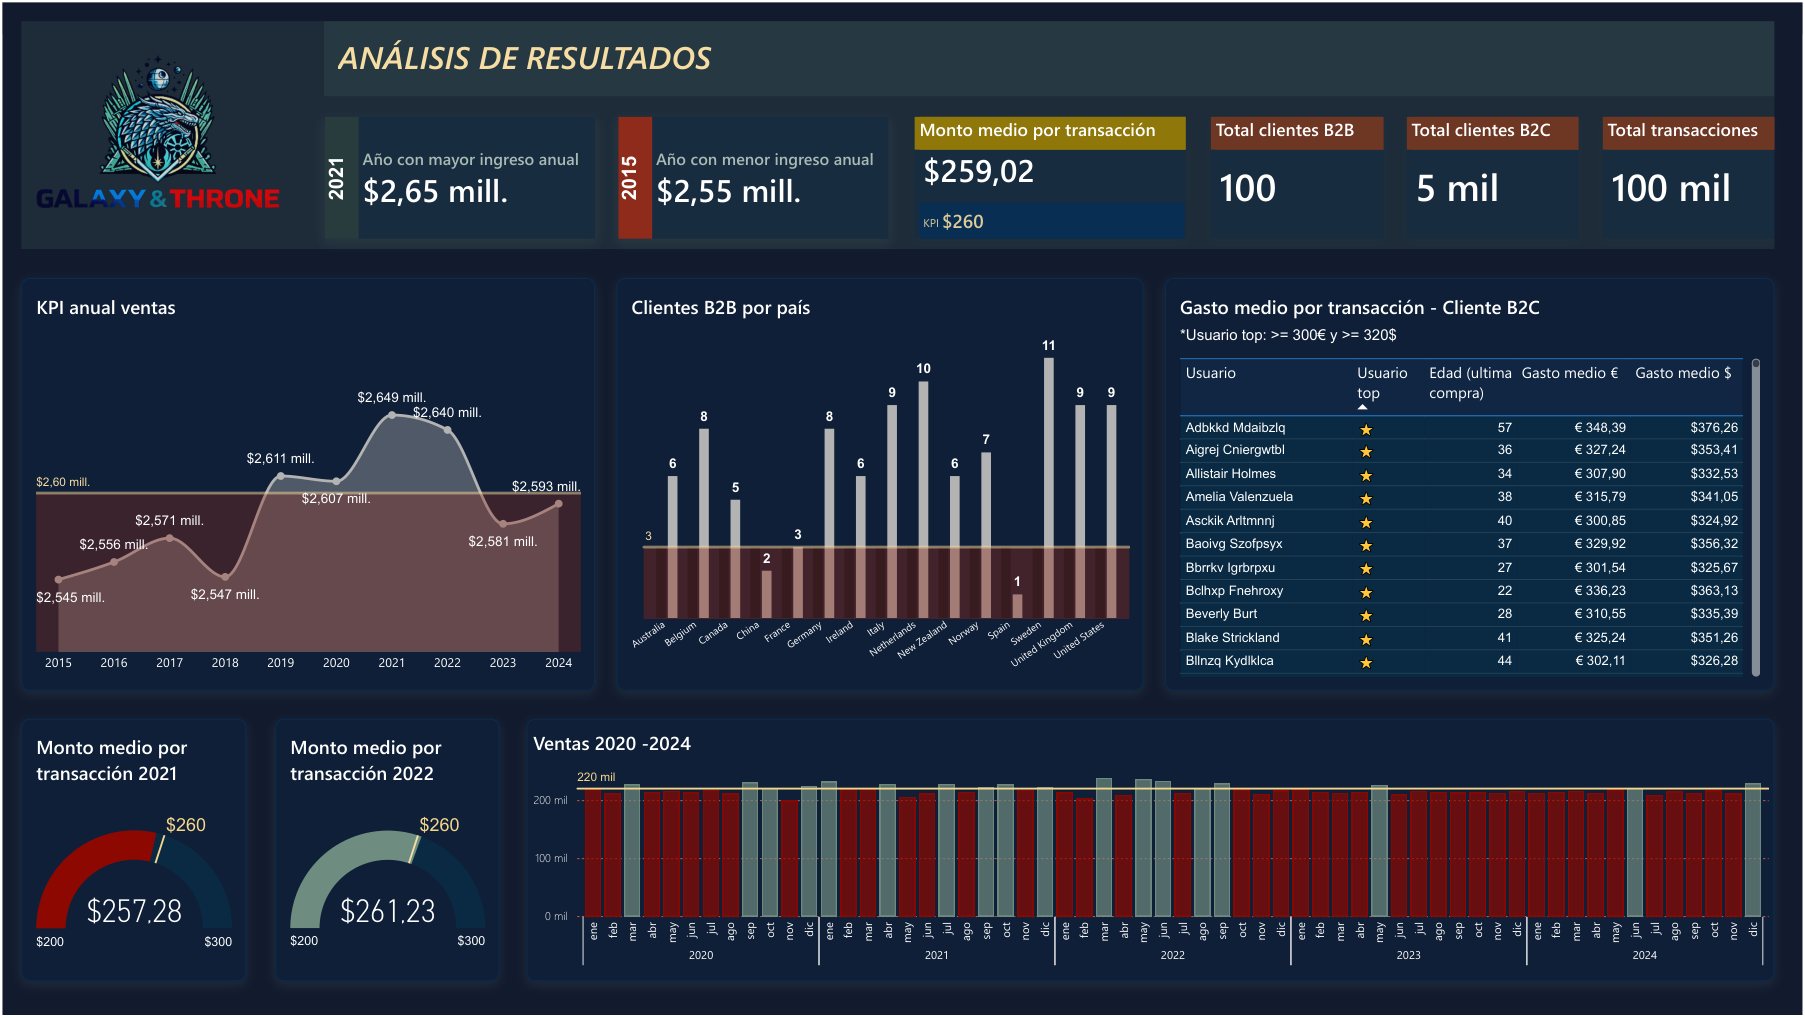

Layout of this report page (visuals, bound fields, positions):
{"tool":"powerbi","page":{"name":"KPIs","canvas":[1920,1080],"ordinal":0},"visuals":[{"type":"shape","box":[20,20,1870.2,243.3],"z":0},{"type":"gauge","title":"Monto medio por transacción 2021","fields":{"MaxValue":["transaction.V_max_media_2021"],"MinValue":["#Tabla de medidas.V_min_media"],"TargetValue":["transaction.meta_media_transacciones"],"Y":["transaction.media_transaction_2021"]},"box":[20,764.4,239.7,279.6],"z":1000},{"type":"gauge","title":"Monto medio por transacción 2022","fields":{"MaxValue":["transaction.V_max_media_2021"],"MinValue":["#Tabla de medidas.V_min_media"],"TargetValue":["transaction.meta_media_transacciones"],"Y":["transaction.media_transaction_2022"]},"box":[290.5,764.4,239.7,279.6],"z":2000},{"type":"clusteredColumnChart","title":"Clientes B2B por país","fields":{"Category":["company.country"],"Y":["#Tabla de medidas.meta_num_companies","CountNonNull(company.id)"]},"box":[655.5,294.2,561.1,439.4],"z":3000},{"type":"lineClusteredColumnComboChart","title":"Ventas 2020 -2024","fields":{"Category":["calendar.year","calendar.month"],"Y":["transaction.Ventas_efectivas"]},"box":[559.2,764.4,1330.9,279.6],"z":4000},{"type":"tableEx","title":"Gasto medio por transacción - Cliente B2C","fields":{"Values":["user.full_name","#Tabla de medidas.top_user","#Tabla de medidas.Edad_ultima_transaccion","#Tabla de medidas.media_amount_euros","#Tabla de medidas.media_amount_dolars"]},"box":[1240.2,294.2,650,439.4],"z":5000},{"type":"lineChart","title":"KPI anual ventas","fields":{"Category":["calendar.year"],"Y":["Sum(transaction.amount(USD))","#Tabla de medidas.%sum_transactions"]},"box":[20,294.2,611.9,439.4],"z":6000},{"type":"cardVisual","fields":{"Data":["Sum(transaction.amount(USD))"],"Rows":["calendar.year"]},"box":[344,122,288,130],"z":7000},{"type":"cardVisual","fields":{"Data":["Sum(transaction.amount(USD))"],"Rows":["calendar.year"]},"box":[656.7,121.7,288.3,130],"z":8000},{"type":"cardVisual","title":"Total clientes B2B","fields":{"Data":["Count(company.id)"]},"box":[1289.2,121.7,183.4,130.7],"z":9000},{"type":"cardVisual","title":"Total clientes B2C","fields":{"Data":["CountNonNull(user.id)"]},"box":[1498,121.7,183.4,130.7],"z":10000},{"type":"cardVisual","title":"Monto medio por transacción","fields":{"Data":["Avg(transaction.amount(USD))"]},"box":[973.2,121.7,288.7,130.7],"z":11000},{"type":"shape","title":"ANÁLISIS DE RESULTADOS","box":[343.2,20,1547,79.9],"z":12000},{"type":"image","box":[20,20,292.3,232.4],"z":13000},{"type":"cardVisual","title":"Total transacciones","fields":{"Data":["Count(transaction.id)"]},"box":[1706.8,121.7,183.4,130.7],"z":14000}]}

Visuals, with their boxes in screenshot pixels (x1, y1, x2, y2), scaled from the page's 1920x1080 canvas onto the 1805x1018 screenshot:
shape: (x1=19, y1=19, x2=1777, y2=248)
"Monto medio por transacción 2021" gauge: (x1=19, y1=721, x2=244, y2=984)
"Monto medio por transacción 2022" gauge: (x1=273, y1=721, x2=498, y2=984)
"Clientes B2B por país" clusteredColumnChart: (x1=616, y1=277, x2=1144, y2=691)
"Ventas 2020 -2024" lineClusteredColumnComboChart: (x1=526, y1=721, x2=1777, y2=984)
"Gasto medio por transacción - Cliente B2C" tableEx: (x1=1166, y1=277, x2=1777, y2=691)
"KPI anual ventas" lineChart: (x1=19, y1=277, x2=594, y2=691)
cardVisual - Sum(transaction.amount(USD)) x calendar.year: (x1=323, y1=115, x2=594, y2=238)
cardVisual - Sum(transaction.amount(USD)) x calendar.year: (x1=617, y1=115, x2=888, y2=237)
"Total clientes B2B" cardVisual: (x1=1212, y1=115, x2=1384, y2=238)
"Total clientes B2C" cardVisual: (x1=1408, y1=115, x2=1581, y2=238)
"Monto medio por transacción" cardVisual: (x1=915, y1=115, x2=1186, y2=238)
"ANÁLISIS DE RESULTADOS" shape: (x1=323, y1=19, x2=1777, y2=94)
image: (x1=19, y1=19, x2=294, y2=238)
"Total transacciones" cardVisual: (x1=1605, y1=115, x2=1777, y2=238)
